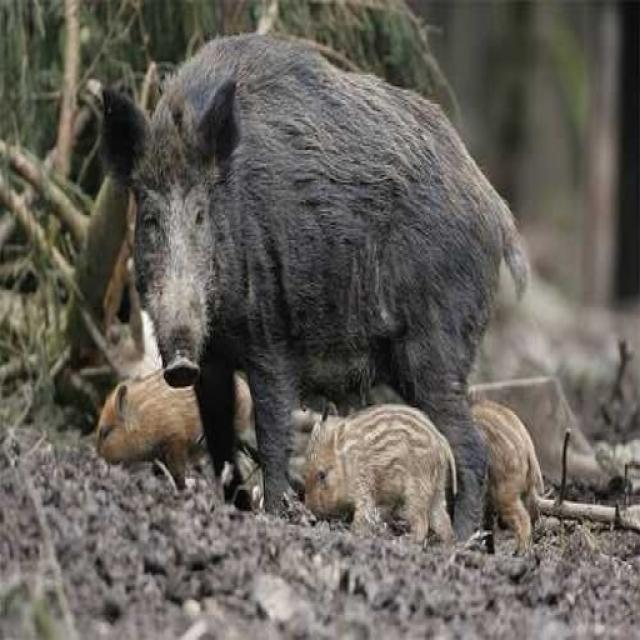pig: (94, 23, 573, 562)
